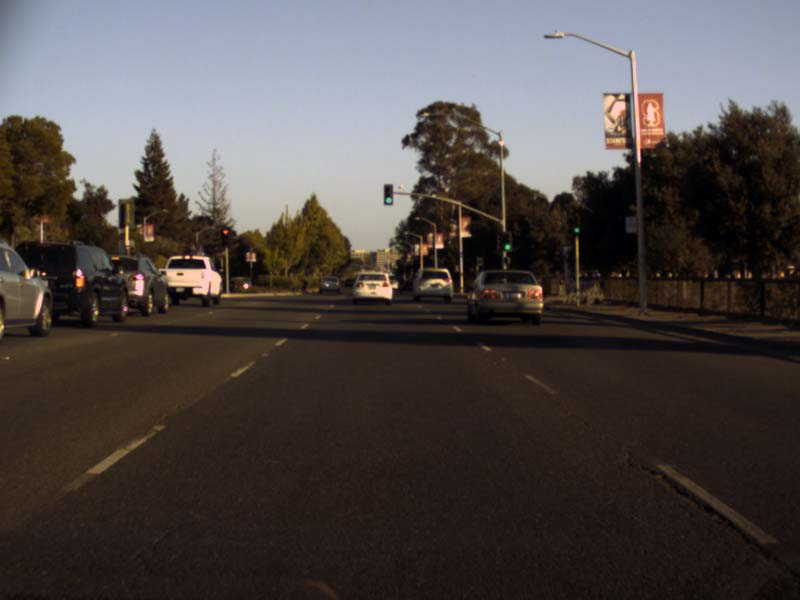Green: (501, 230, 511, 250), (383, 183, 392, 205), (572, 215, 580, 233)
Red: (221, 225, 229, 247)
